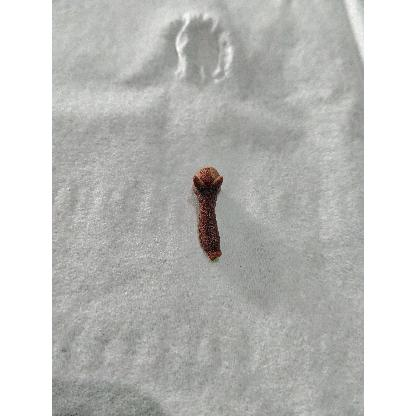baik: (193, 167, 223, 262)
